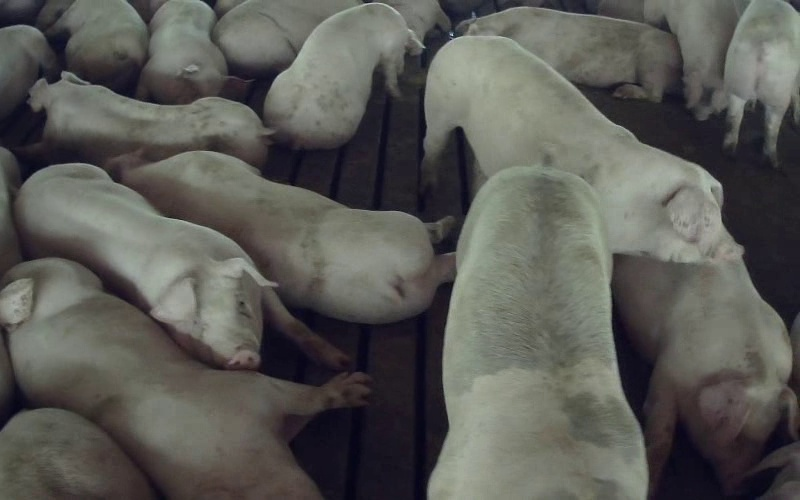pig: (429, 167, 647, 499), (424, 37, 739, 262), (14, 164, 347, 368), (107, 151, 454, 322), (613, 255, 796, 493), (264, 3, 422, 149), (25, 72, 269, 166), (454, 7, 681, 101), (723, 0, 799, 166), (644, 0, 746, 120), (136, 0, 249, 103), (212, 0, 360, 78), (46, 0, 147, 91)
